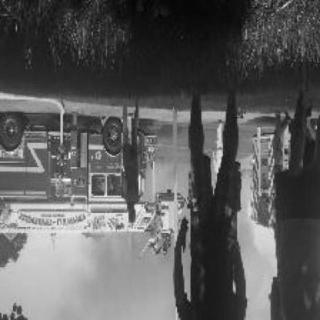Smoke: (140, 170, 252, 252), (66, 254, 166, 316)
